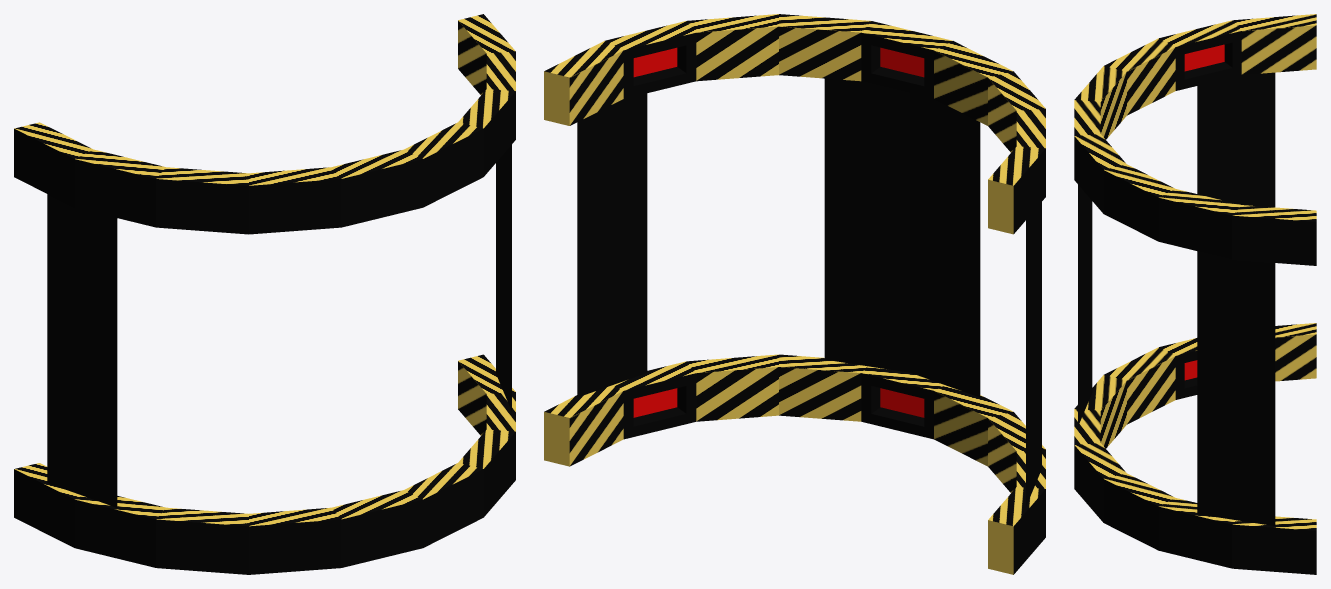
File: WireTunnel.fbx
The picture shows the model from 3 angles, left to right: view 1: azimuth 30°, elevation 25°; view 2: azimuth 150°, elevation 25°; view 3: azimuth 270°, elevation 25°; orthographic projection. The views are drawn at different scales.
Parts seen in each view (by area): view 1: Tunnel_Ring, Tunnel_Beam; view 2: Tunnel_Ring, Tunnel_Beam; view 3: Tunnel_Ring, Tunnel_Beam.
Part boxes in pixels (x1,y1,x2,y2): Tunnel_Ring: (14,14,515,574); Tunnel_Beam: (47,145,511,507); Tunnel_Ring: (544,14,1045,574); Tunnel_Beam: (577,78,1041,506); Tunnel_Ring: (1074,14,1316,574); Tunnel_Beam: (1078,72,1275,525).
Size of the model in its own units: 10.1 by 8 by 4.98.
1 material, 1 textured.
